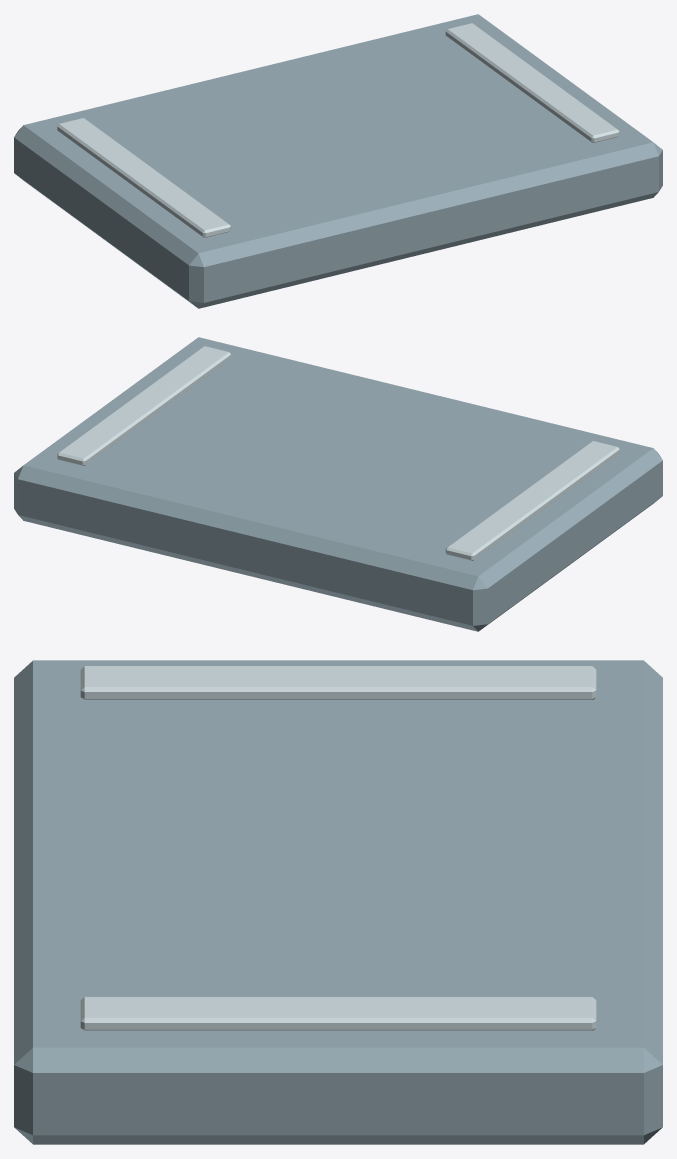
The model's file is FTF_Product_SteelPlate_Drop.glb.
3 renders of one model, top to bottom at view 1: azimuth 30°, elevation 25°; view 2: azimuth 150°, elevation 25°; view 3: azimuth 270°, elevation 25°, orthographic. The views are drawn at different scales.
Visible parts, largest first — view 1: SteelPlate_Mesh; view 2: SteelPlate_Mesh; view 3: SteelPlate_Mesh.
Part boxes in pixels (box(x1,y1,x2,y2)): SteelPlate_Mesh: box(14, 14, 662, 308); SteelPlate_Mesh: box(14, 337, 662, 631); SteelPlate_Mesh: box(14, 660, 662, 1144).
Size of the model in its own units: 0.5 by 0.063 by 0.34.
